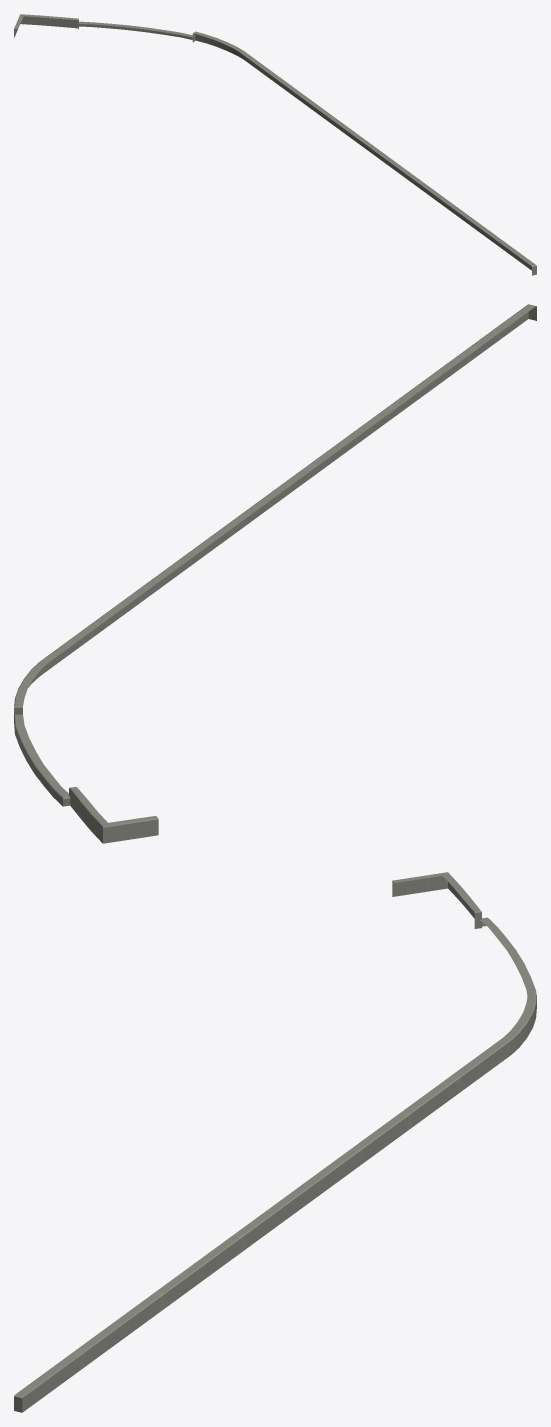
Rendered from pref_sm_city_riverwall07_snow_lv3.fbx.
3 renders of one model, top to bottom at view 1: azimuth 30°, elevation 25°; view 2: azimuth 150°, elevation 25°; view 3: azimuth 330°, elevation 25°, orthographic. The views are drawn at different scales.
Parts seen in each view (by area): view 1: pref_sm_city_riverwall07_snow_lv3; view 2: pref_sm_city_riverwall07_snow_lv3; view 3: pref_sm_city_riverwall07_snow_lv3.
Boxes of the visible parts, box(x1,y1,x2,y2) form: pref_sm_city_riverwall07_snow_lv3: box(14, 14, 536, 275); pref_sm_city_riverwall07_snow_lv3: box(14, 304, 536, 843); pref_sm_city_riverwall07_snow_lv3: box(14, 872, 536, 1412).
Bounding box in the file's own units: 18.66 × 1.19 × 82.75.
